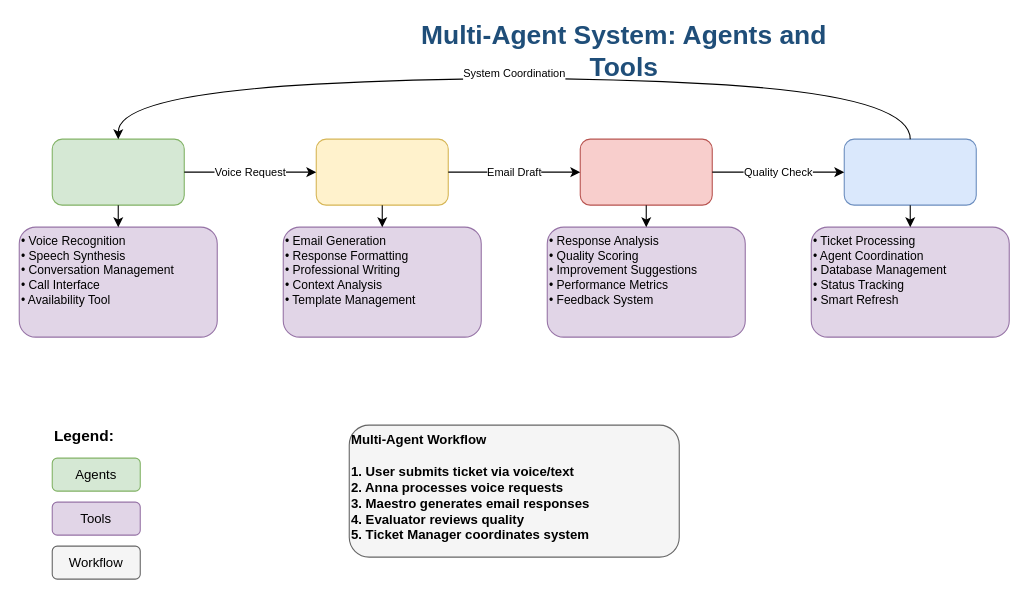
Image size: 1029x598. Some labels were removed from this diagram. Here are the shapes that lost their labels. From the top down, the centre of each, then its label:
At [117,171]: "Anna Voice Assistant".
At [381,171]: "Maestro Email Assistant".
At [645,171]: "Evaluator Quality Control".
At [909,171]: "Ticket Manager System Orchestrator".
